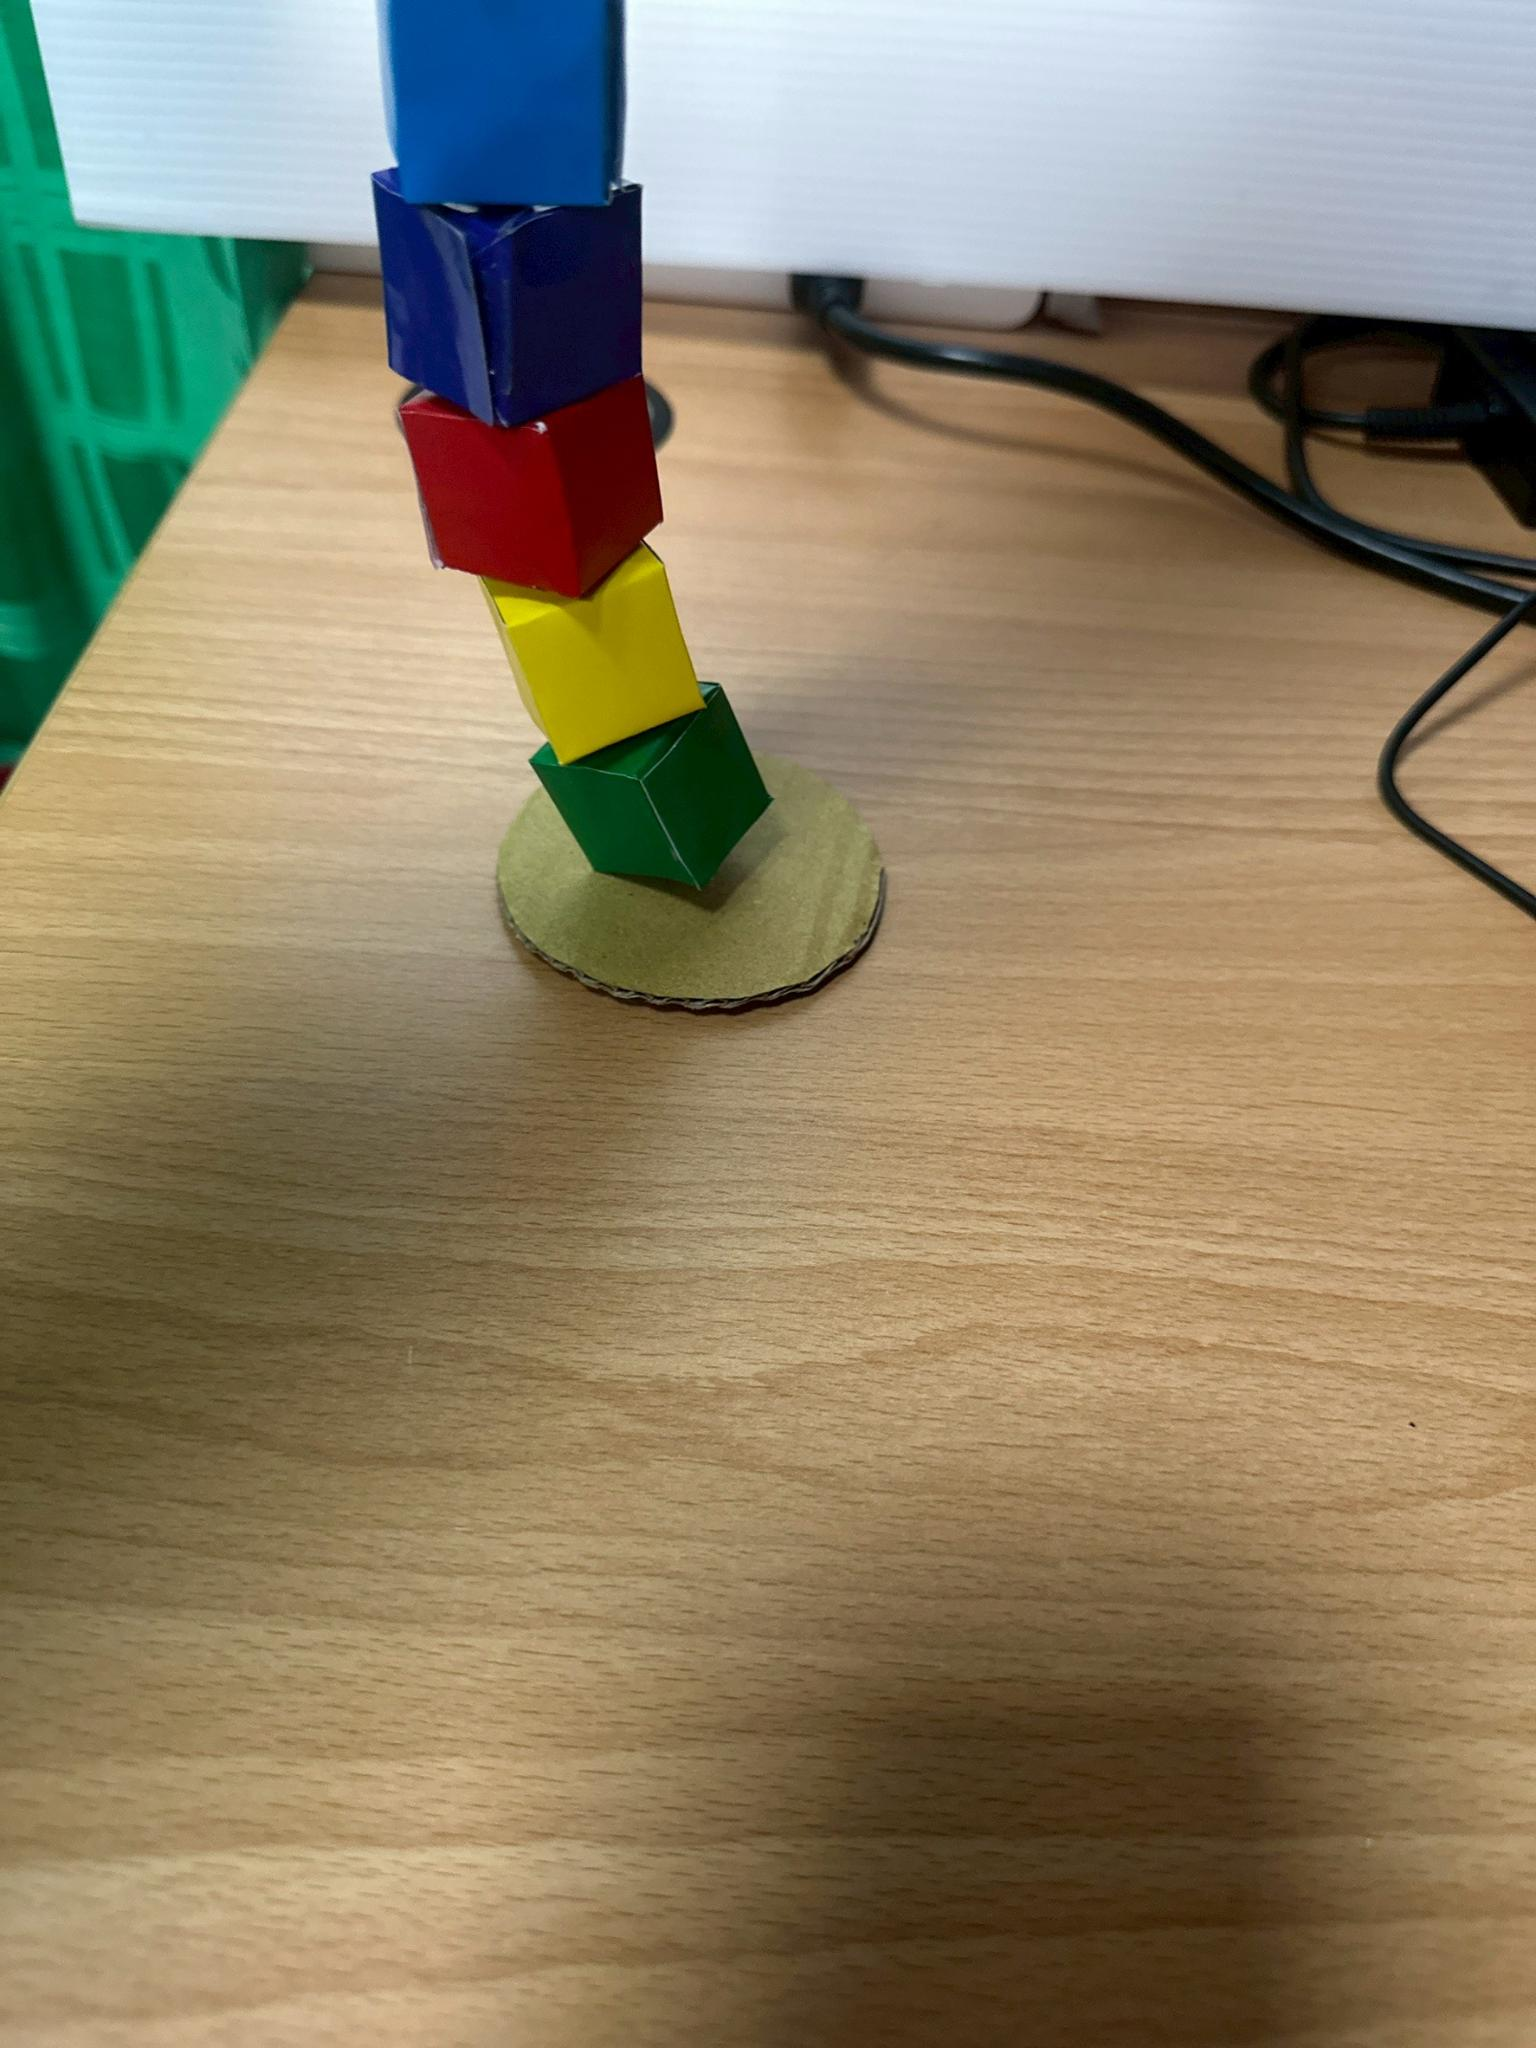base: (497, 753, 883, 1005)
